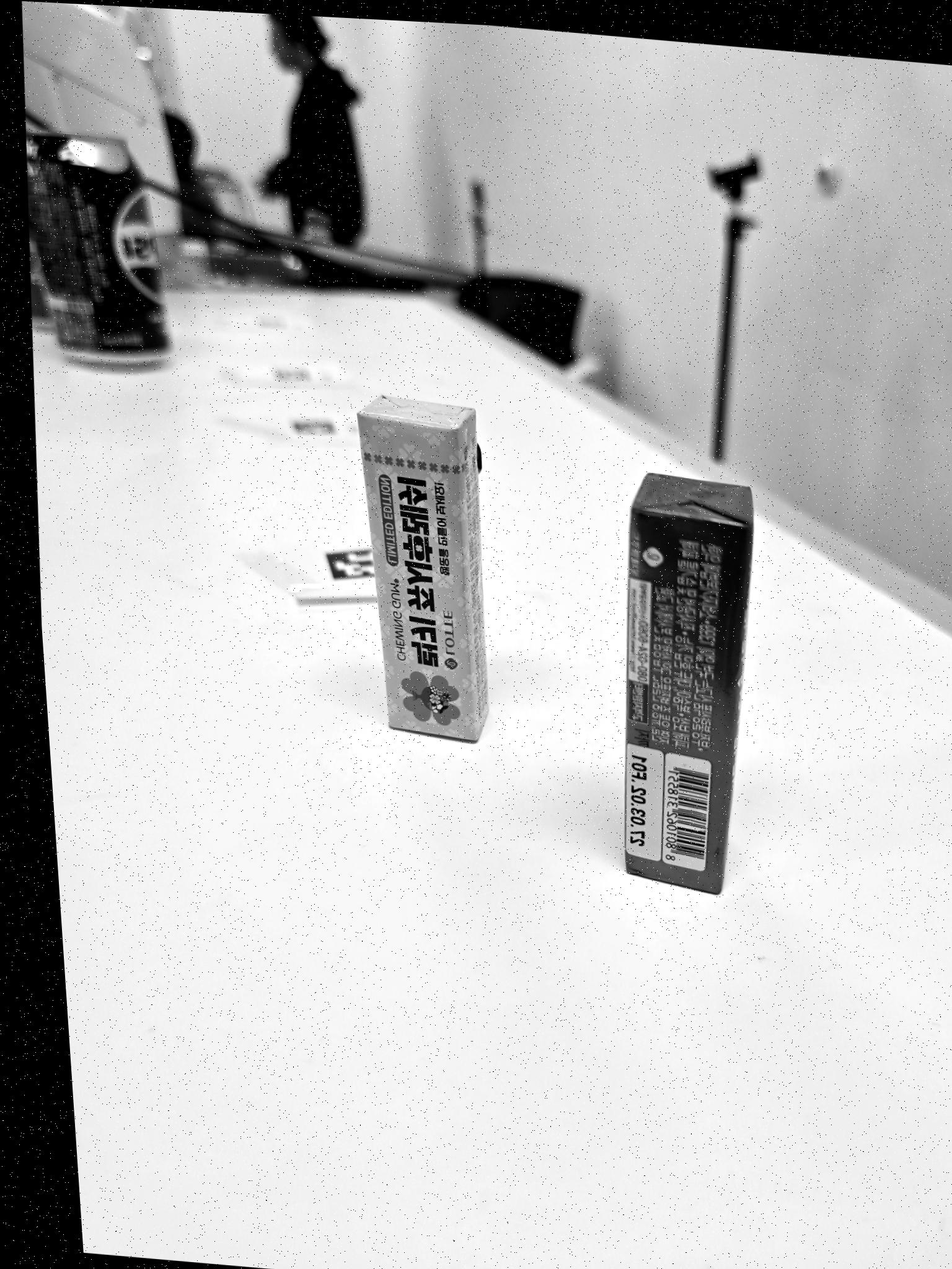gum_green: (625, 474, 753, 893)
gum_yellow: (359, 397, 488, 741)
